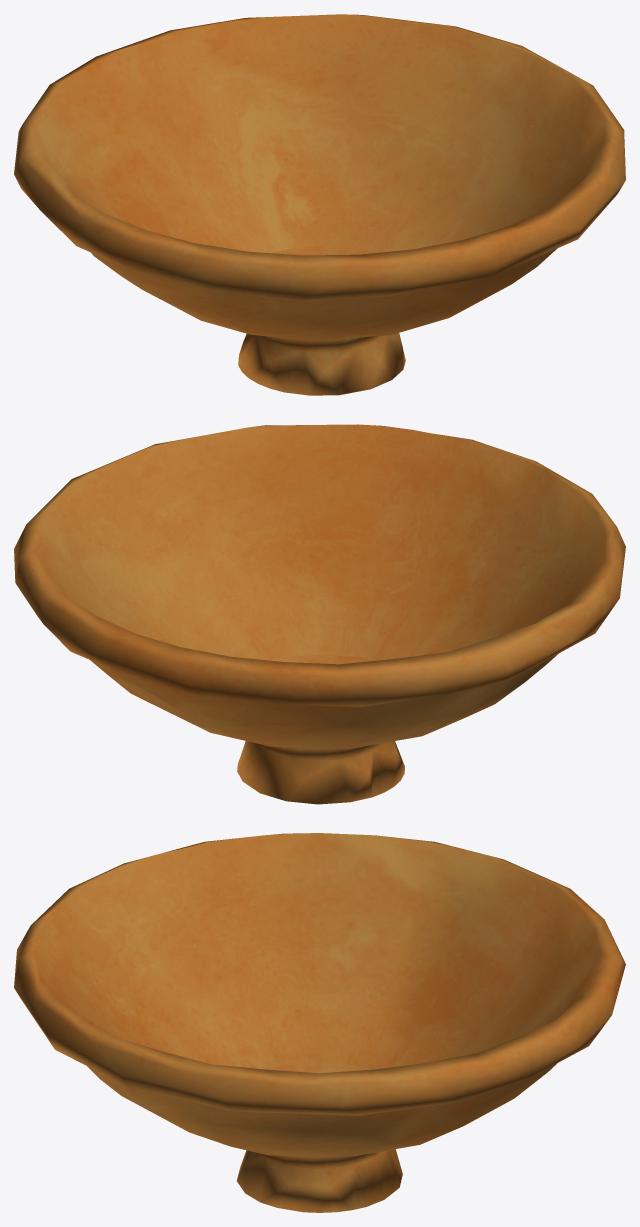
The model's file is ARC0510151.fbx.
3 renders of one model, top to bottom at view 1: azimuth 30°, elevation 25°; view 2: azimuth 150°, elevation 25°; view 3: azimuth 270°, elevation 25°, orthographic.
Visible parts, largest first — view 1: smARC0510151; view 2: smARC0510151; view 3: smARC0510151.
Boxes of the visible parts, box(x1,y1,x2,y2) form: smARC0510151: box(14, 14, 625, 395); smARC0510151: box(14, 424, 625, 804); smARC0510151: box(14, 833, 625, 1212).
Bounding box in the file's own units: 64.08 × 25.9 × 64.02.
1 material, 1 textured.
